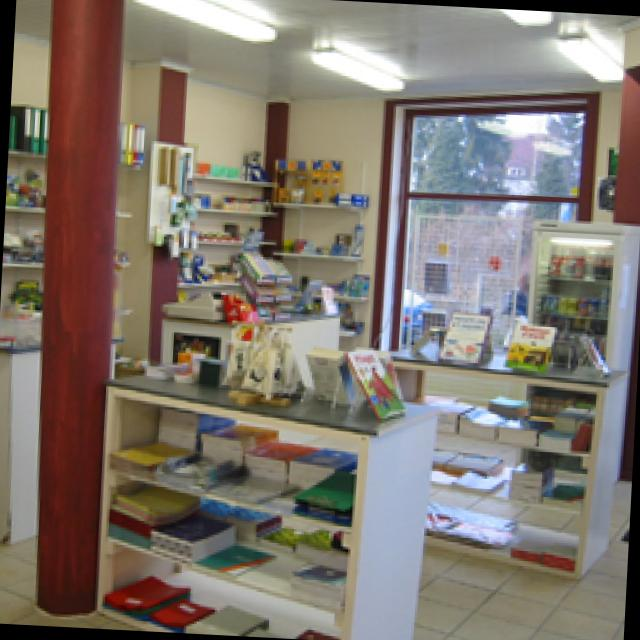2006: (379, 99, 584, 348)
book case: (341, 345, 406, 416)
books crop: (506, 456, 554, 502)
ceiling beam: (15, 0, 640, 97)
column occluded: (32, 0, 122, 614)
floor -X: (0, 405, 630, 640)
lamp crop: (145, 0, 273, 41), (307, 45, 403, 88), (555, 33, 621, 79)
lamp occluded: (499, 9, 551, 22)
notebooks: (148, 511, 234, 561), (198, 421, 276, 468), (107, 437, 196, 476), (242, 438, 316, 483), (284, 443, 356, 487), (288, 557, 347, 609), (505, 526, 576, 569)
stand clothes: (155, 218, 640, 579), (95, 362, 436, 640)
wall clock: (260, 19, 640, 476), (0, 27, 277, 463)
